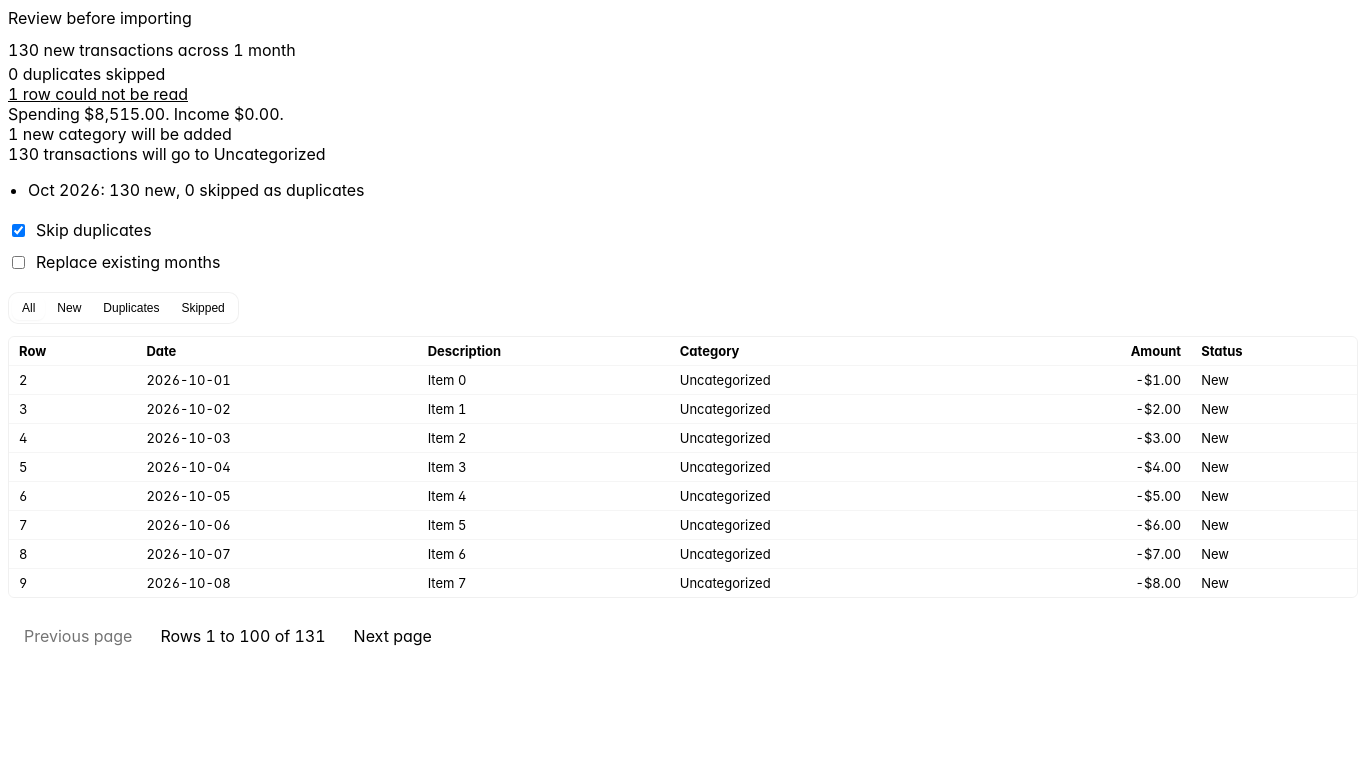
ReviewStep › pages through long imports and filters to skipped rows
Check: the text "Rows 1 to 100 of 131" is shown, box [160, 626, 326, 646]
Check: the button "Previous page" is disabled, box [8, 618, 148, 654]
Click the button "Next page". click: (393, 636)
box: [338, 618, 448, 654]
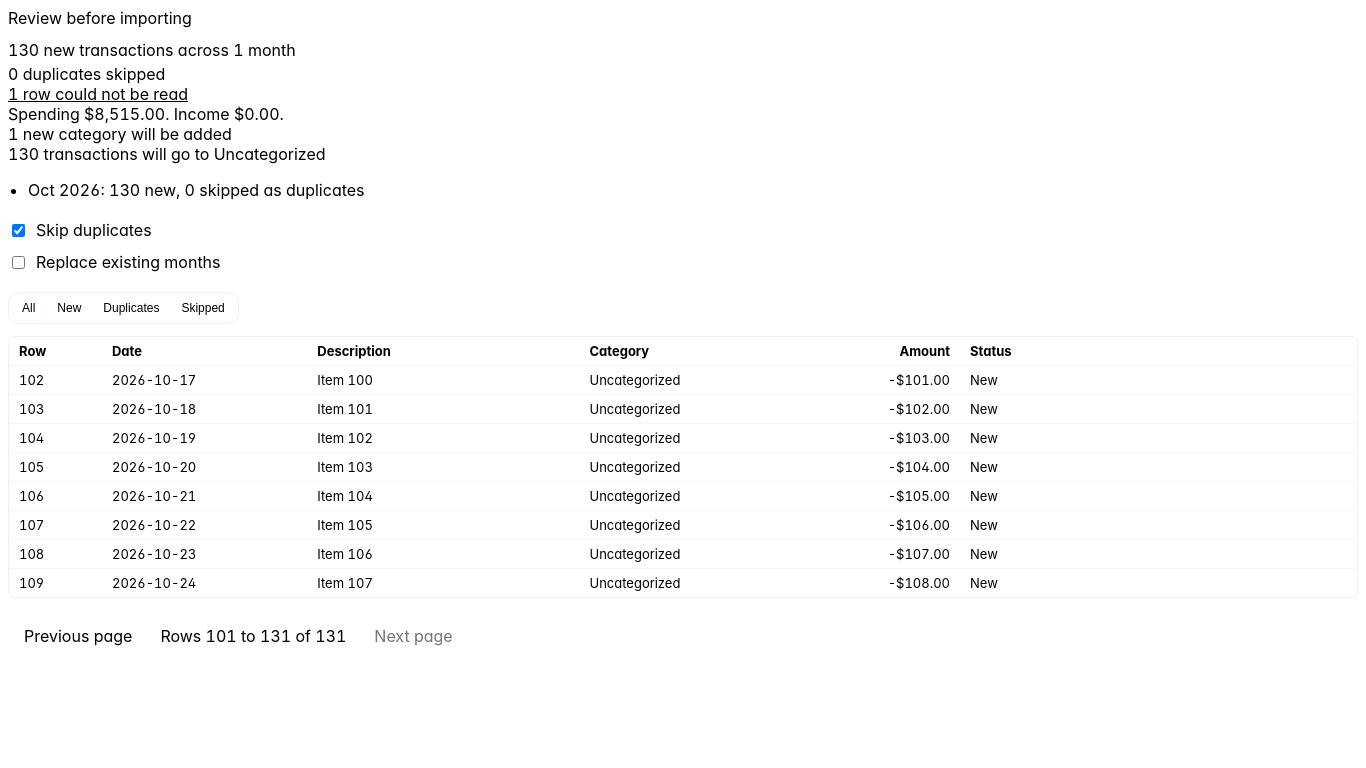
Check: the text "Rows 101 to 131 of 131" is shown, box [160, 626, 346, 646]
Check: the button "Next page" is disabled, box [358, 618, 469, 654]
Click the button "Previous page". click: (78, 636)
box: [8, 618, 148, 654]
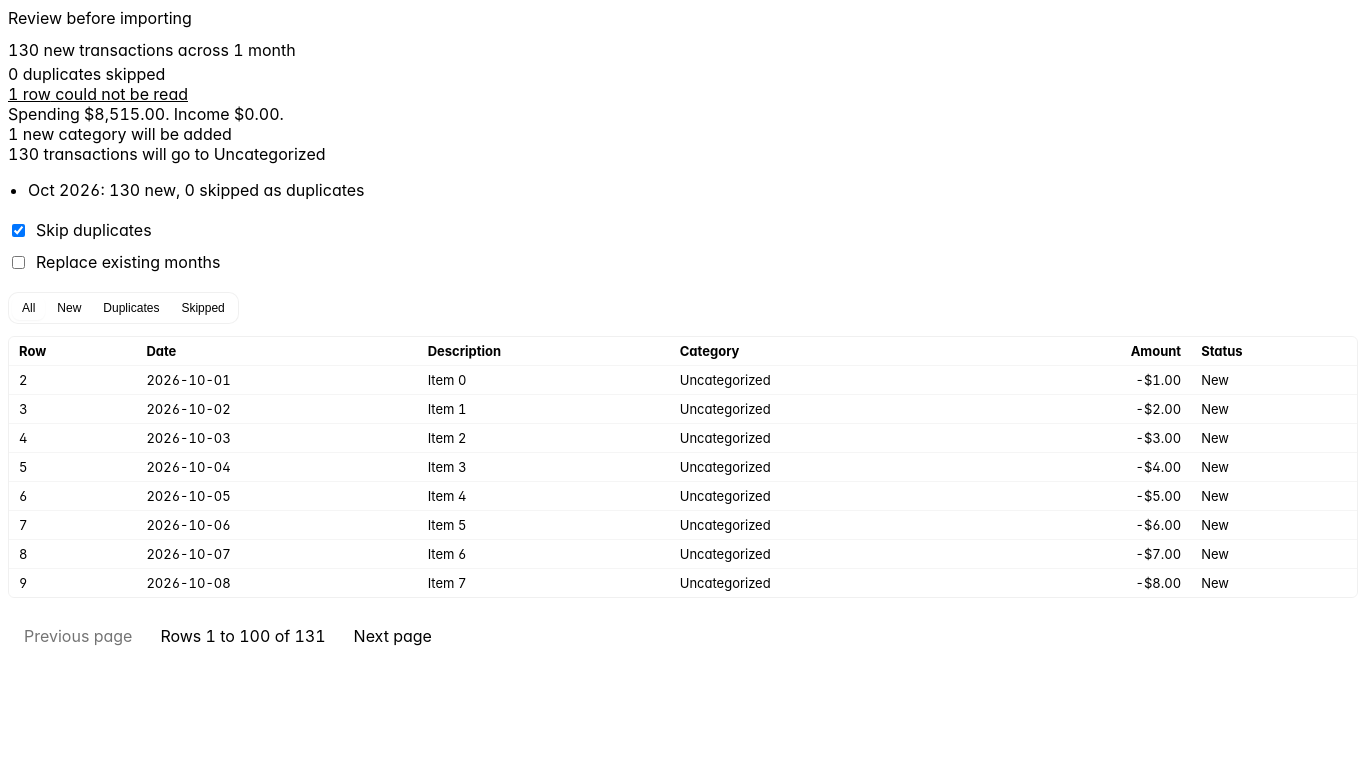
Click the button "1 row could not be read". click: (98, 94)
box: [8, 84, 188, 104]
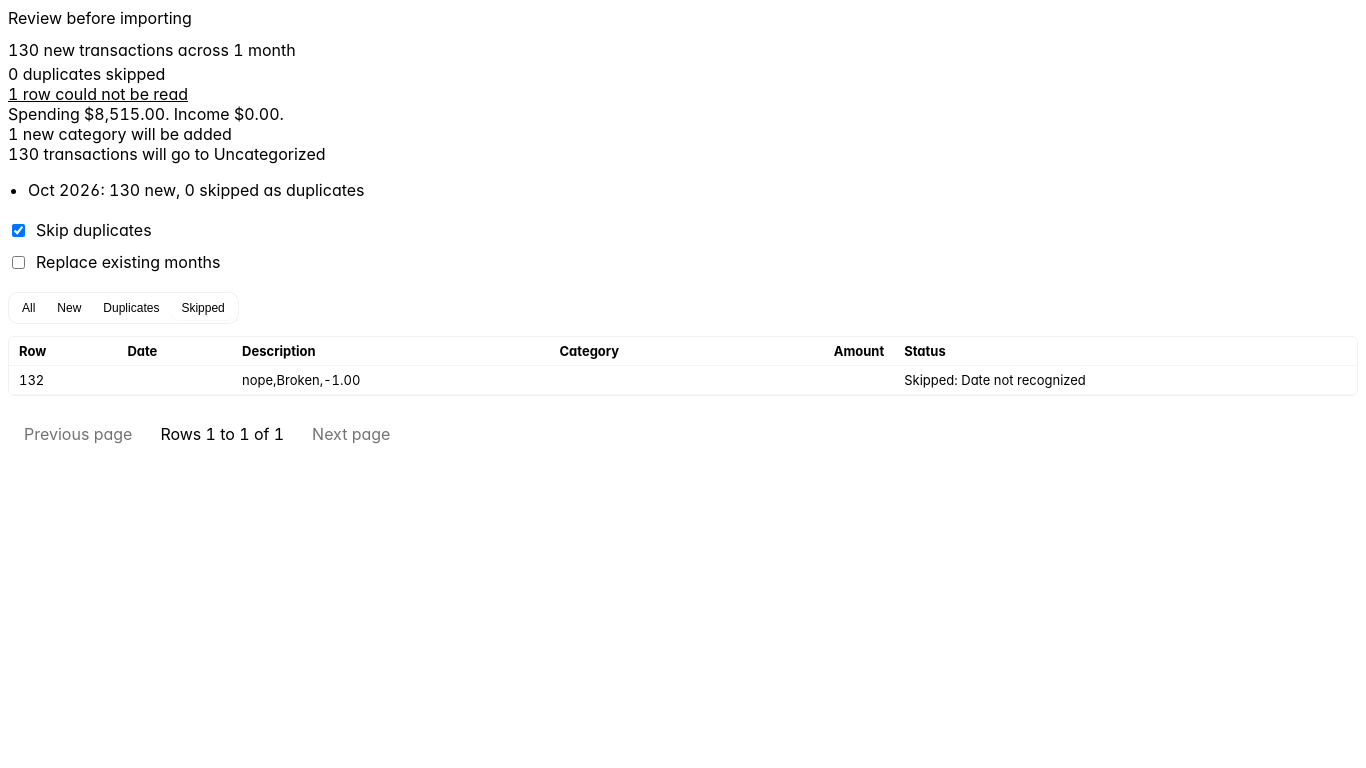
Check: the text "Skipped: Date not recognized" is shown, box [894, 366, 1357, 394]
Click the button "Duplicates". click: (131, 308)
box: [93, 296, 169, 320]
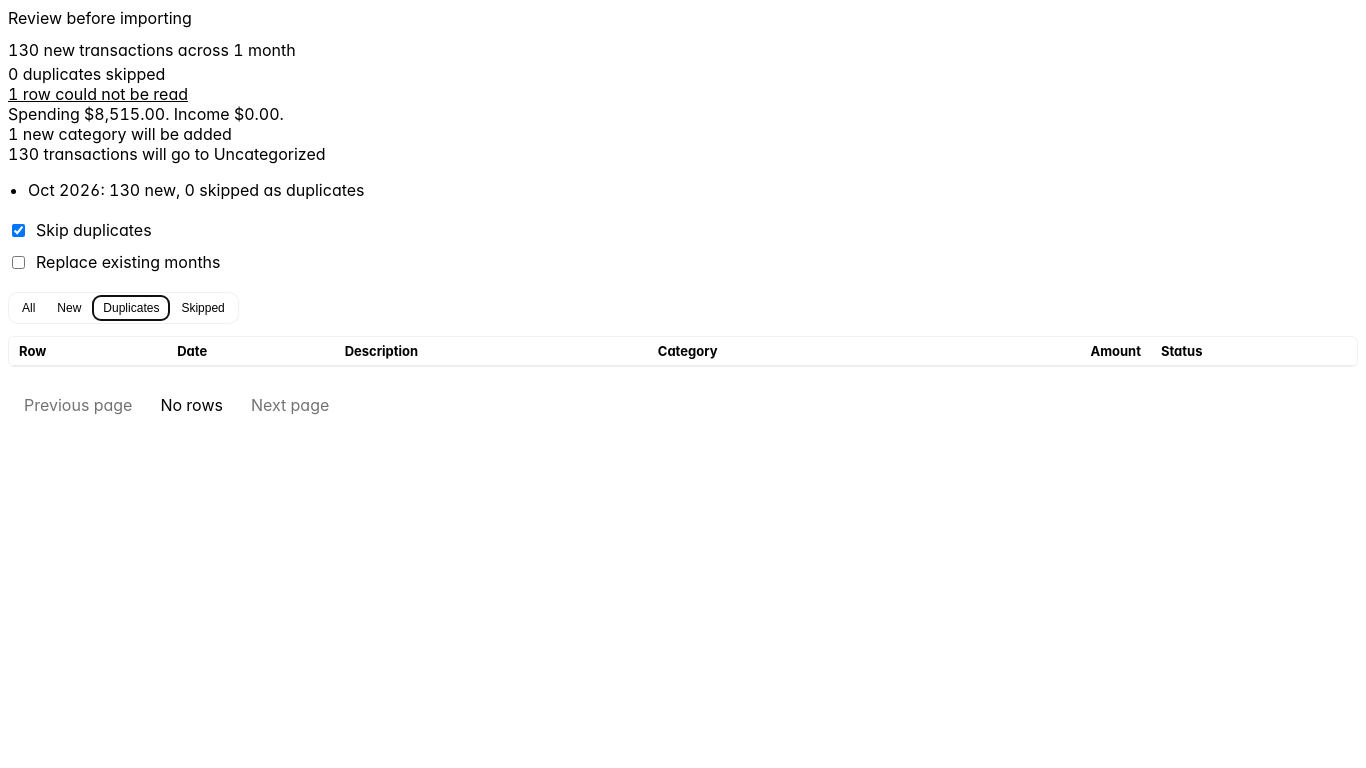
Check: the text "No rows" is shown, box [160, 395, 223, 415]
